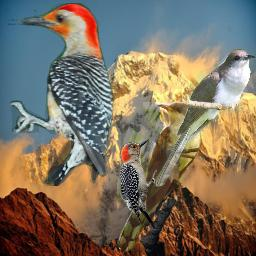Cuckoo: (154, 49, 255, 187), (117, 102, 201, 254)
Woodpecker: (10, 3, 118, 186), (116, 136, 157, 235)
